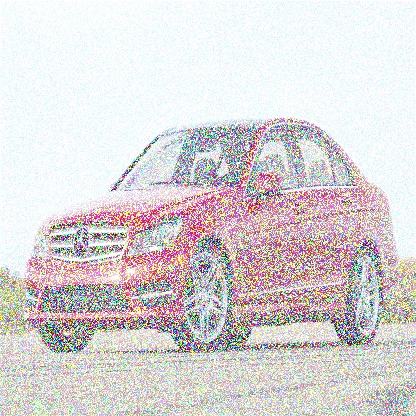Vehicle: (23, 114, 400, 355)
